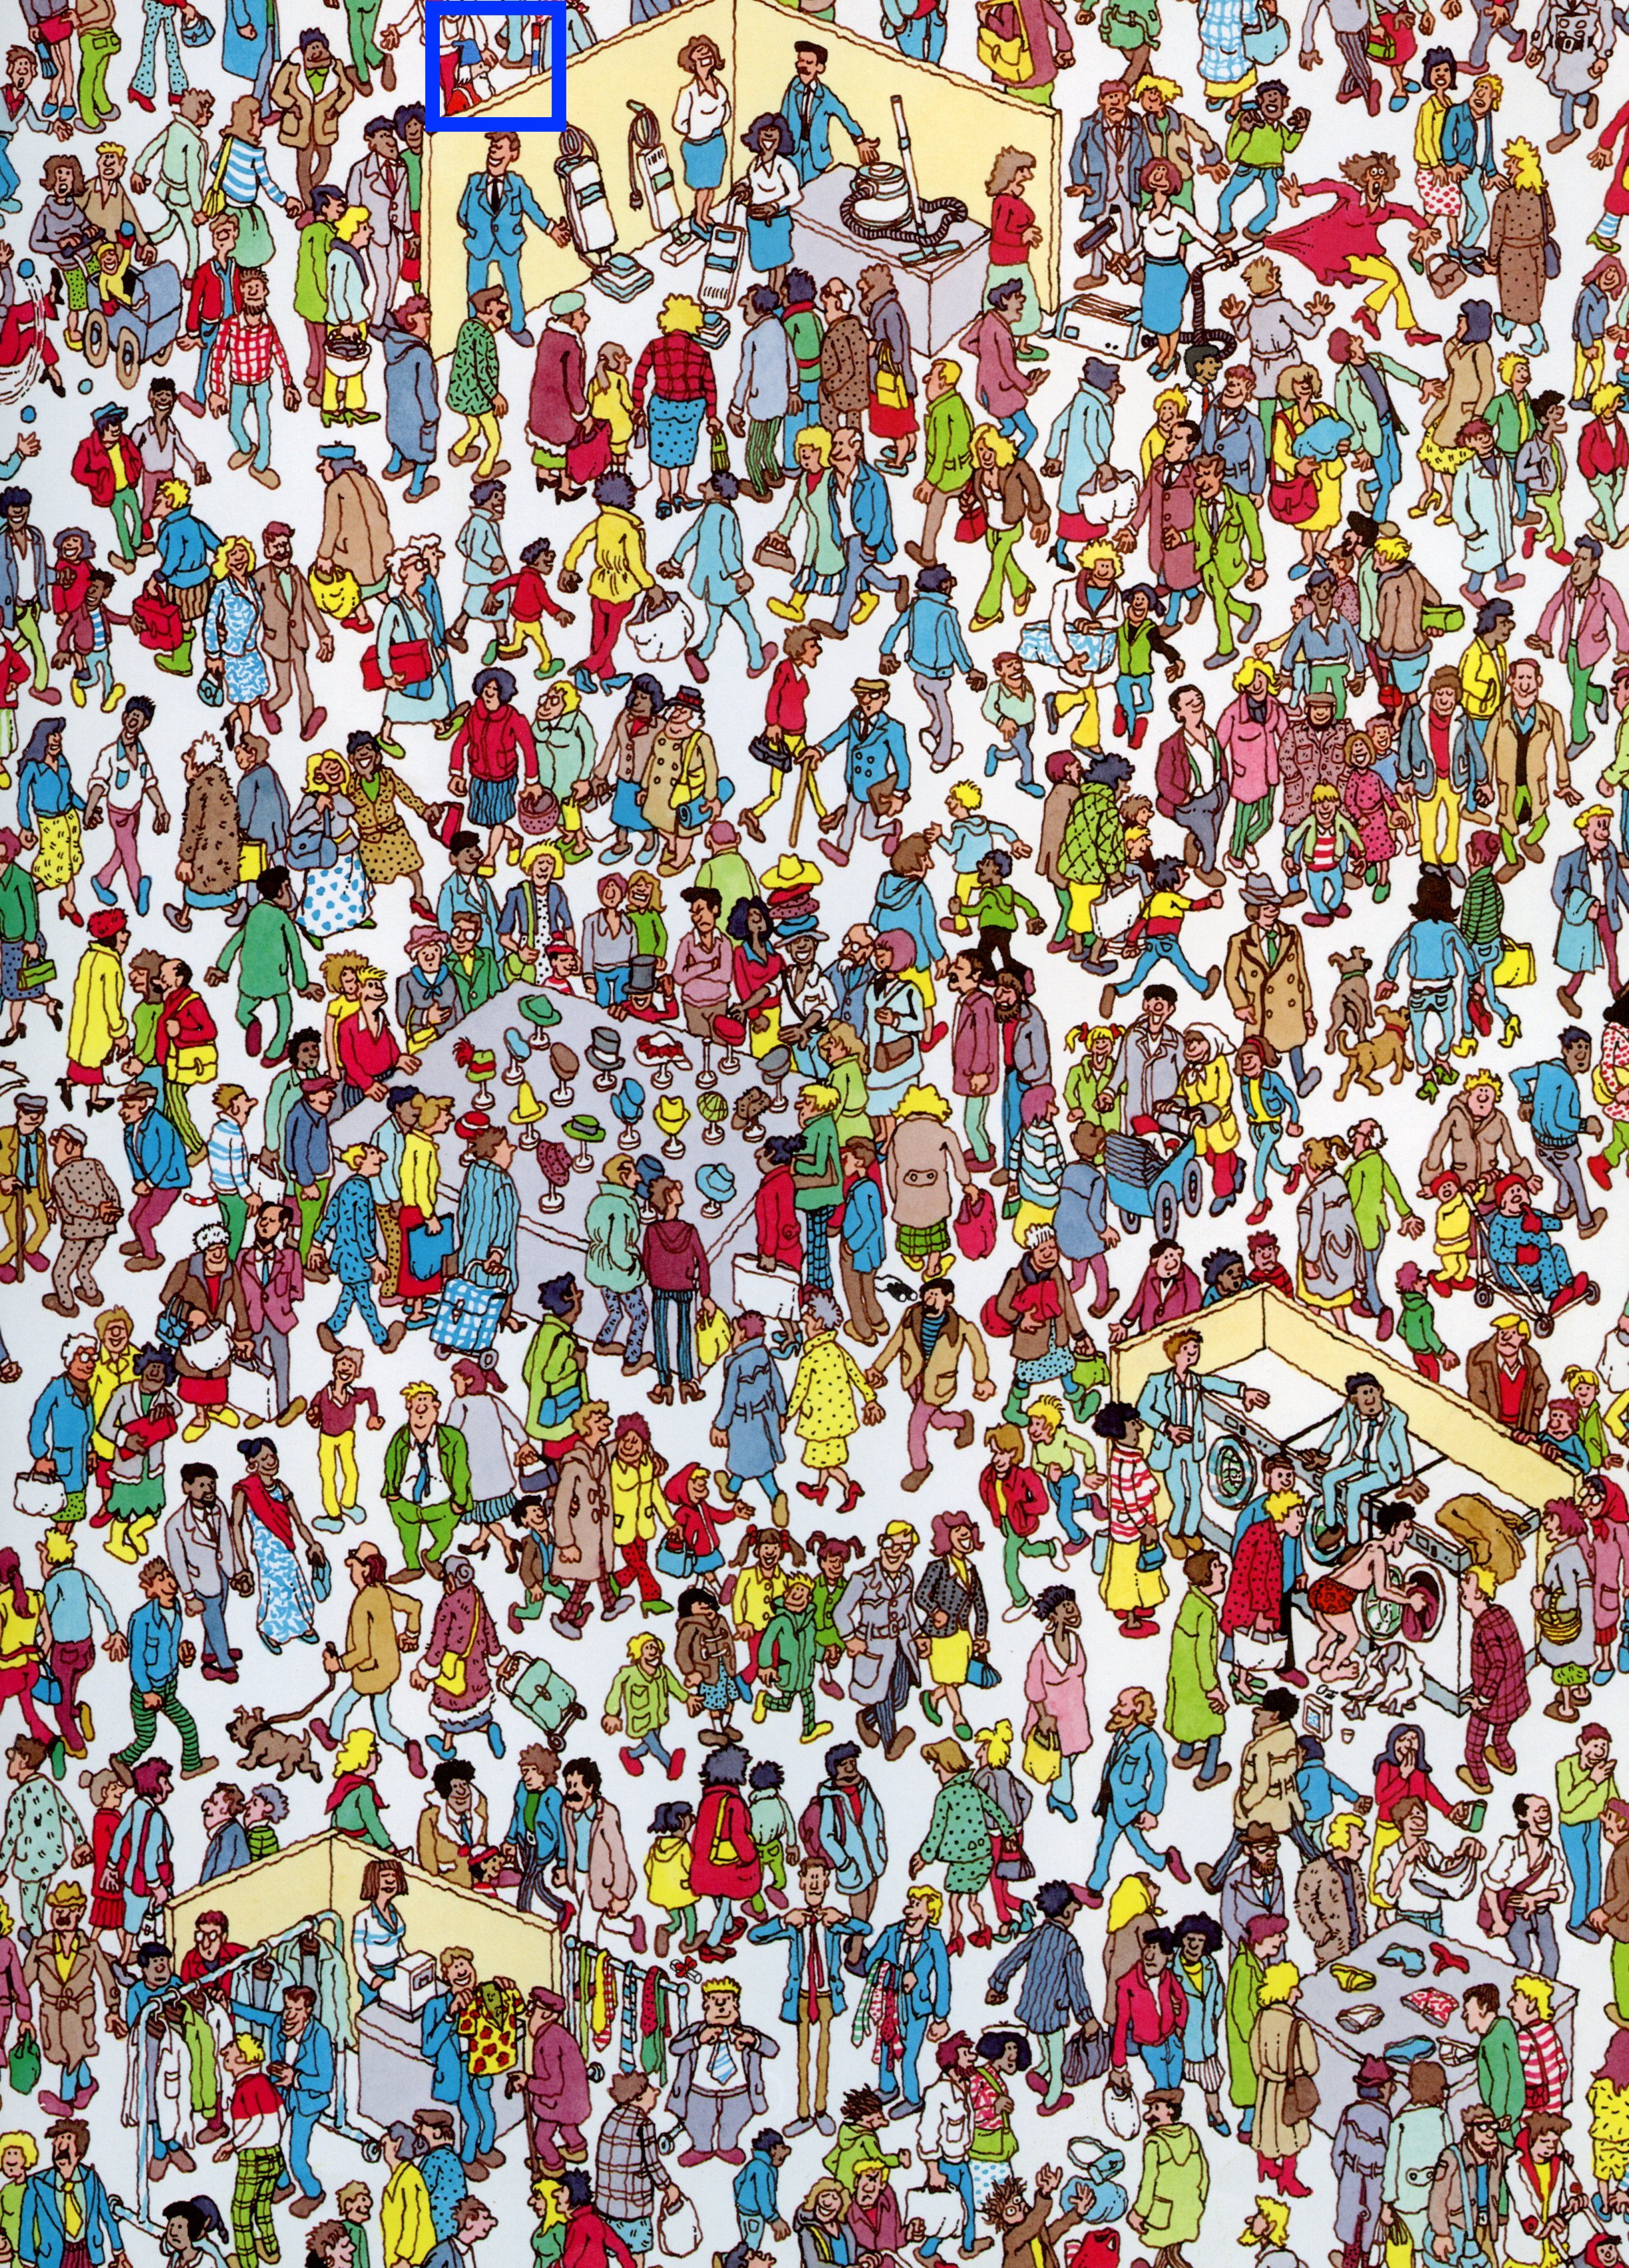white beard: (433, 5, 564, 123)
